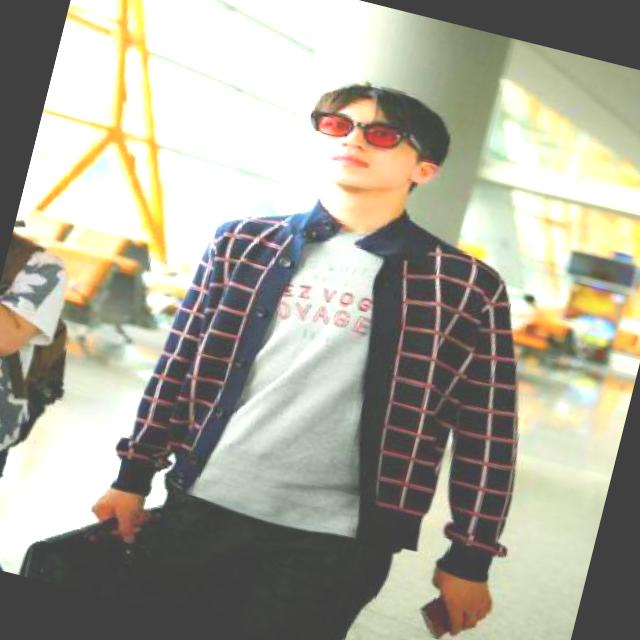Person: (127, 33, 554, 640)
